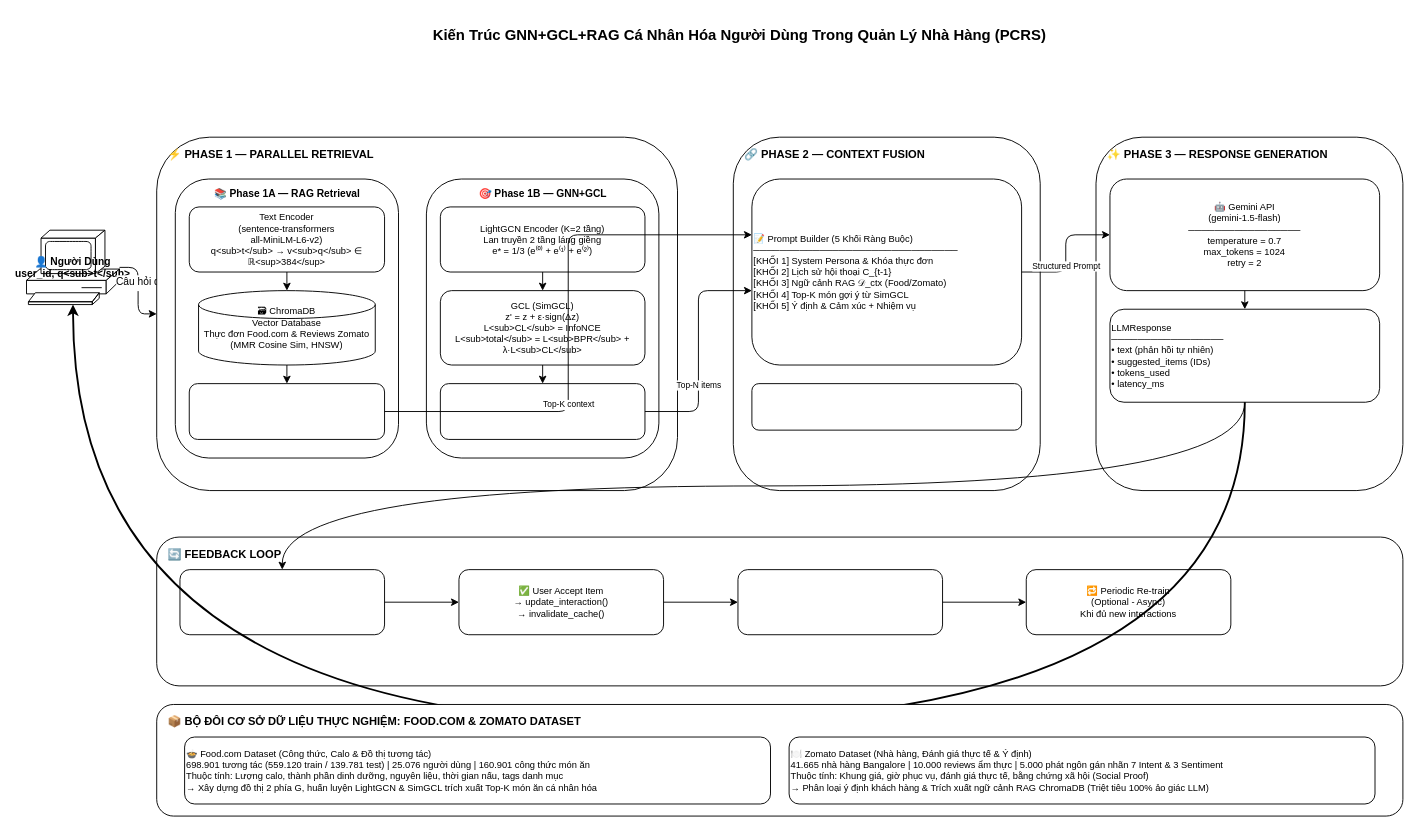
This 1420x832 diagram has some shape labels left out. Here are the shapes that lost their labels. From the top down, the centre of each, then its label:
At (286,411): "Top-K Ngữ Cảnh 𝒟_ctx (MMR Reranking Triệt Tiêu Trùng) score = α·sem + (1-α)·div".
At (542,411): "Top-K Món Ăn ℐ_K ŷ_ui = z_uᵀ · z_i (Metadata: Calo, nguyên liệu, giá)".
At (886,406): "Token Estimator ≈ len(prompt) / 3".
At (282,602): "💾 Lưu vào ConversationStore (ChromaDB) turn = {query, response, items}".
At (840,602): "📊 Update Interaction Graph user_item_train[u].add(i) → Phục vụ exclude_seen".
